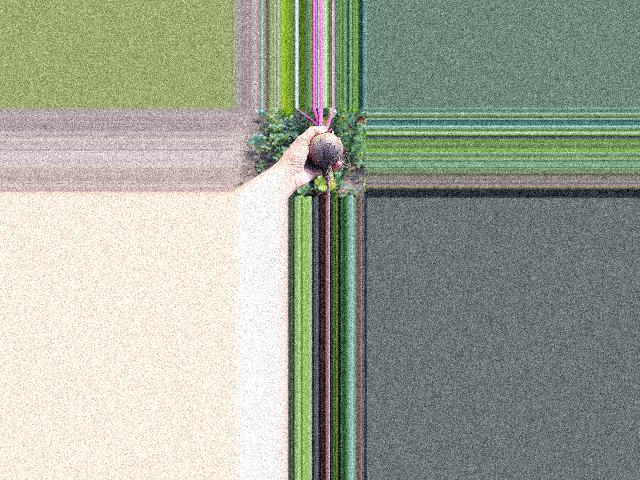beet: (294, 107, 357, 198)
